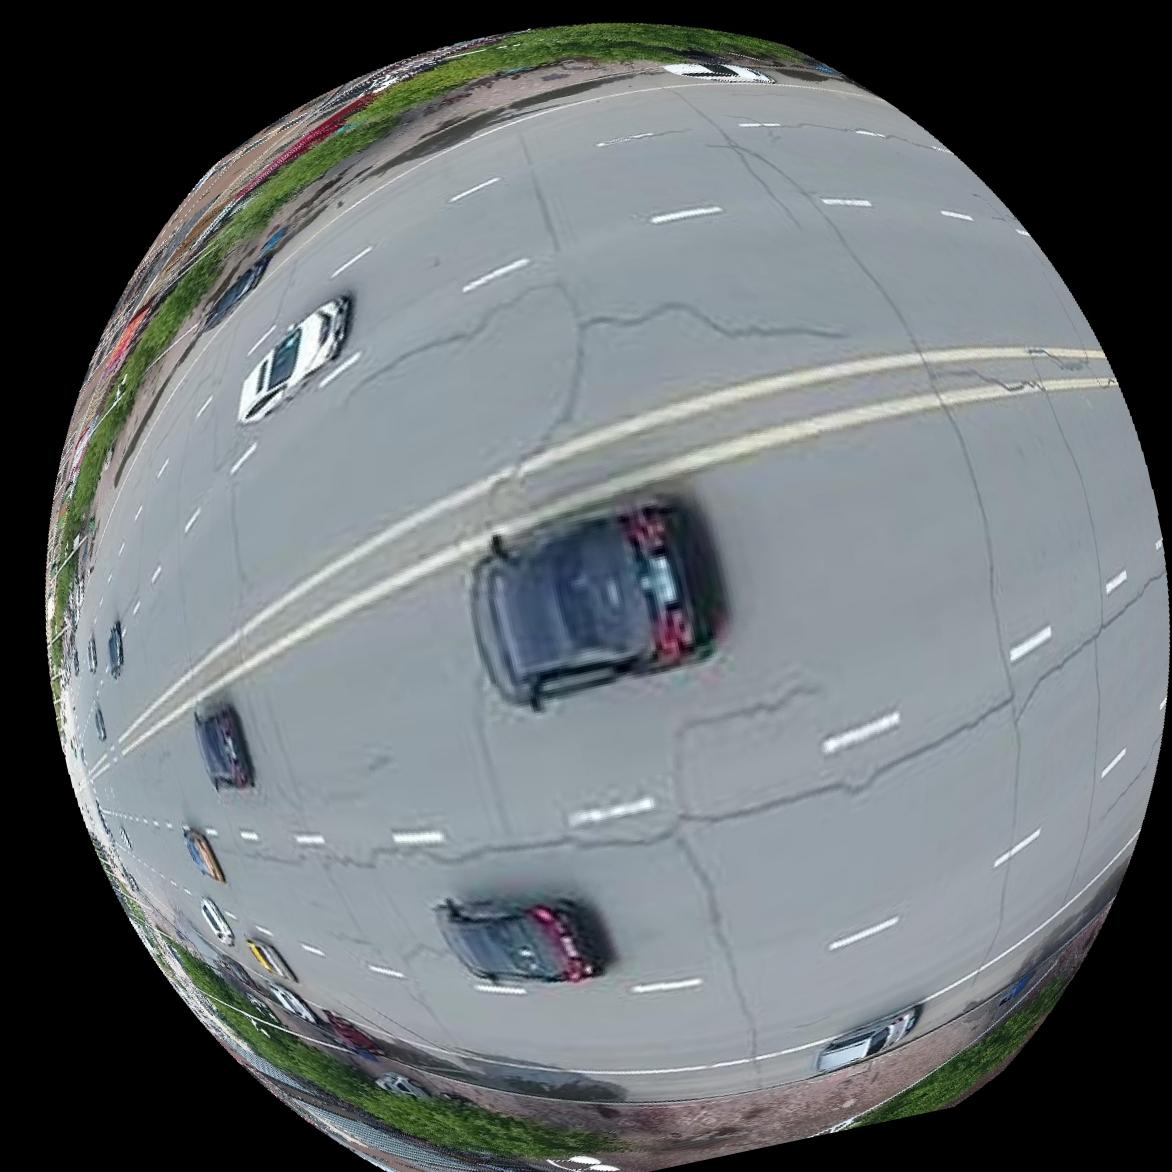cars: (471, 499, 714, 711), (237, 294, 349, 423), (434, 900, 603, 984), (817, 1007, 922, 1074), (194, 705, 253, 790), (183, 827, 225, 883), (245, 938, 295, 983), (199, 897, 233, 947), (105, 621, 123, 679)
trees: (128, 67, 472, 383), (832, 1002, 1050, 1133), (328, 1062, 589, 1160), (165, 938, 334, 1089), (446, 21, 840, 81), (61, 380, 124, 527)
